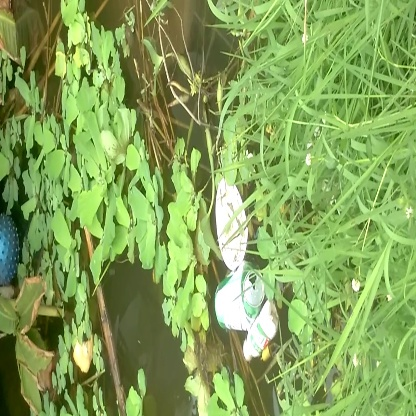bottle: (208, 261, 272, 343)
